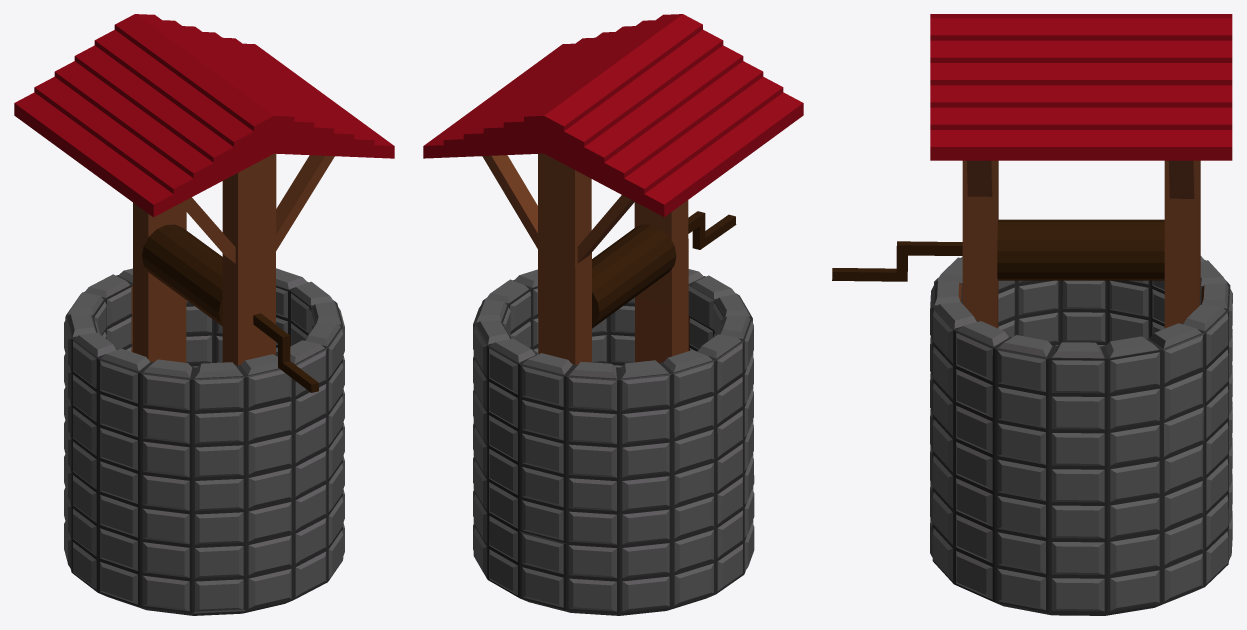
The model's file is well.fbx.
3 views of the same model, side by side, from view 1: azimuth 30°, elevation 25°; view 2: azimuth 150°, elevation 25°; view 3: azimuth 270°, elevation 25° (orthographic). The views are drawn at different scales.
Visible parts, largest first — view 1: Cylinder; view 2: Cylinder; view 3: Cylinder.
Boxes of the visible parts, x1=… form: Cylinder: x1=14, y1=14, x2=394, y2=615; Cylinder: x1=423, y1=14, x2=803, y2=615; Cylinder: x1=832, y1=14, x2=1232, y2=615.
Size of the model in its own units: 201 by 395 by 265.
